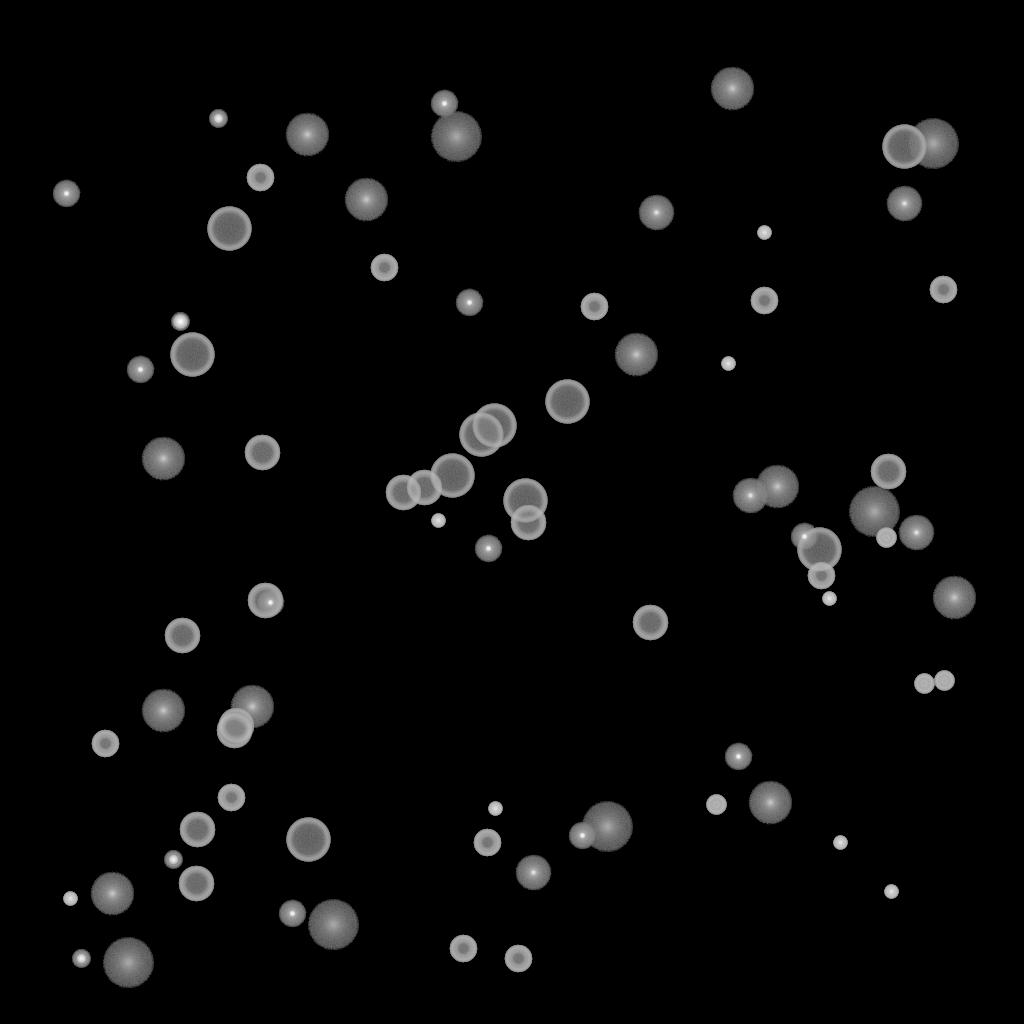depth:-10: (52, 180, 80, 208), (724, 743, 752, 771), (278, 900, 306, 928), (430, 90, 458, 118), (790, 523, 818, 551), (126, 356, 154, 384), (256, 589, 284, 617), (474, 535, 502, 563), (455, 289, 483, 317), (568, 822, 596, 850)
depth:-20: (72, 950, 90, 968), (209, 110, 227, 128), (164, 851, 182, 869), (171, 313, 189, 331)
depth:-30: (822, 592, 836, 606), (757, 226, 771, 240), (488, 802, 502, 816), (63, 892, 77, 906), (173, 315, 187, 329), (884, 885, 898, 899), (833, 836, 847, 850), (431, 514, 445, 528), (721, 357, 735, 371)
depth:-40: (706, 795, 726, 815), (934, 671, 954, 691), (914, 674, 934, 694), (876, 528, 896, 548)
depth:-50: (929, 276, 957, 304), (473, 829, 501, 857), (750, 287, 778, 315), (580, 293, 608, 321), (449, 935, 477, 963), (504, 945, 532, 973), (370, 254, 398, 282), (246, 164, 274, 192), (91, 730, 119, 758), (807, 562, 835, 590), (217, 784, 245, 812)
depth:-60: (216, 713, 252, 749), (632, 605, 668, 641), (510, 505, 546, 541), (218, 708, 254, 744), (385, 475, 421, 511), (870, 454, 906, 490), (179, 812, 215, 848), (164, 618, 200, 654), (244, 435, 280, 471), (406, 470, 442, 506), (178, 866, 214, 902), (247, 583, 283, 619)
depth:-70: (459, 413, 503, 457), (170, 333, 214, 377), (882, 125, 926, 169), (797, 528, 841, 572), (472, 404, 516, 448), (430, 454, 474, 498), (207, 207, 251, 251), (503, 479, 547, 523), (545, 380, 589, 424), (286, 818, 330, 862)
depth:0: (638, 195, 674, 231), (886, 186, 922, 222), (515, 855, 551, 891), (732, 478, 768, 514), (898, 515, 934, 551)
depth:10: (710, 67, 754, 111), (285, 113, 329, 157), (344, 178, 388, 222), (141, 689, 185, 733), (755, 465, 799, 509), (230, 685, 274, 729), (141, 437, 185, 481), (932, 576, 976, 620), (90, 872, 134, 916), (748, 781, 792, 825), (614, 333, 658, 377)
depth:20: (307, 900, 359, 950), (430, 112, 482, 162), (581, 802, 633, 852), (102, 938, 154, 988), (848, 487, 900, 537), (907, 119, 959, 169)
